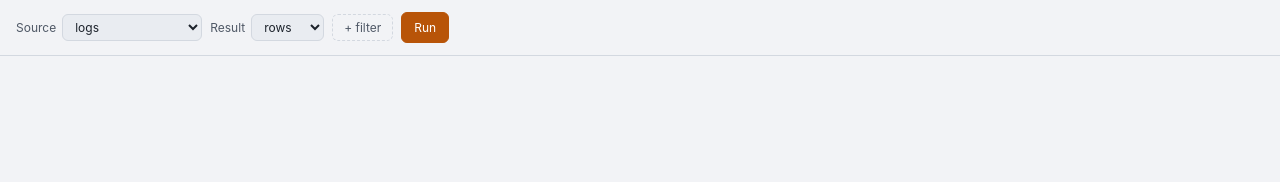
Scenario: QueryView › loads the next page of rows through the cursor
Click the button "Run": (425, 28) [401,12,449,43]
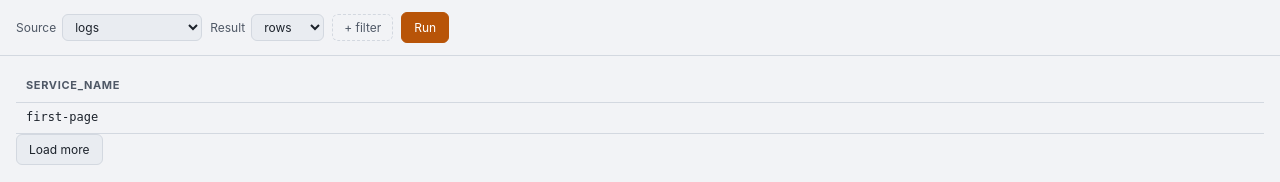
Expected: the text "first-page" is shown, [26,110,98,124]
Click the button "Load more": (59, 149) [16,134,103,165]
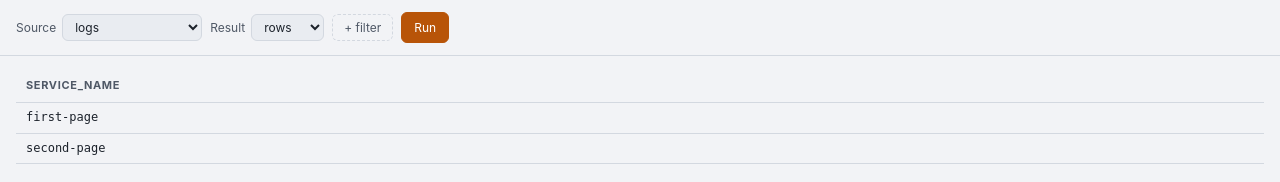
Expected: the text "first-page" is shown, [26,110,98,124]
Expected: the text "second-page" is shown, [26,141,106,155]
Expected: the button "Load more" is gone
